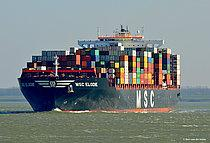Ship: (15, 22, 188, 117)
